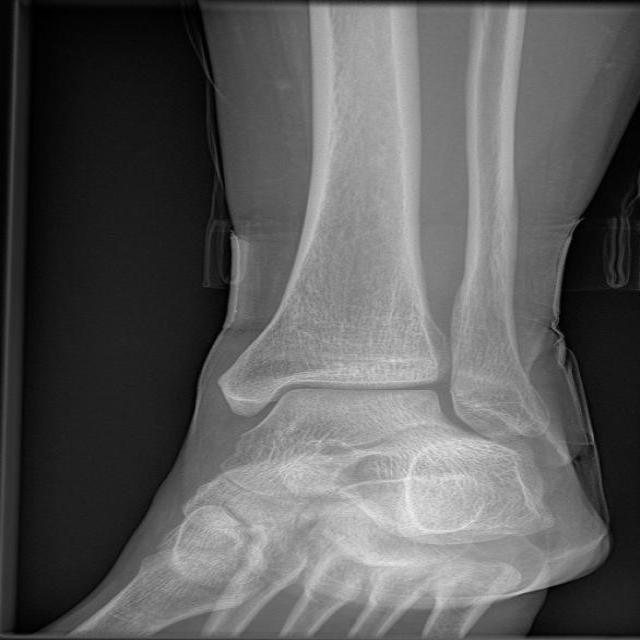Hairline: (334, 426, 568, 576)
